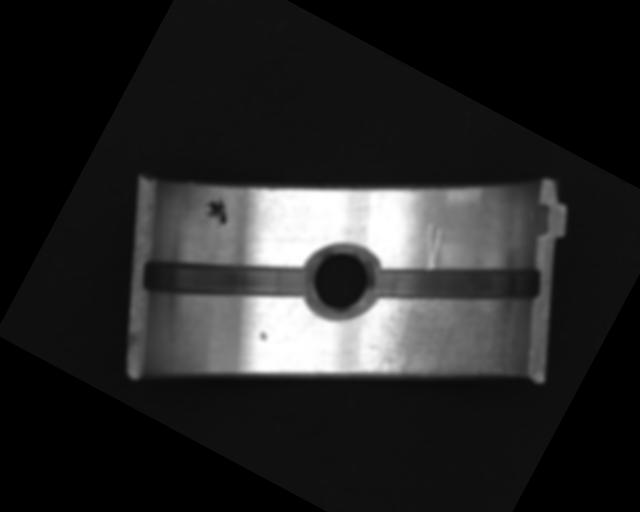blot: (198, 192, 237, 231)
bruise: (257, 330, 269, 341)
gap: (367, 201, 553, 364), (131, 200, 313, 356)
hole: (296, 237, 387, 329)
nick: (408, 218, 454, 272)
scratch: (348, 244, 548, 435)
